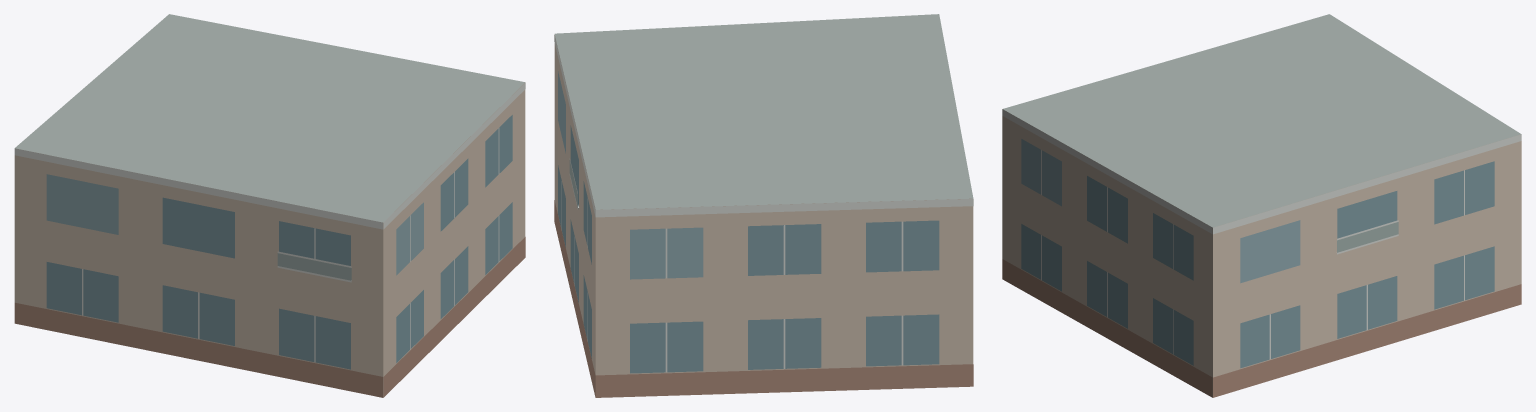
File: survey-upis-32922656.glb
3 views of the same model, side by side, from view 1: azimuth 30°, elevation 25°; view 2: azimuth 150°, elevation 25°; view 3: azimuth 270°, elevation 25° (orthographic). The views are drawn at different scales.
Visible parts, largest first — view 1: survey-upis-32922656.tmp; view 2: survey-upis-32922656.tmp; view 3: survey-upis-32922656.tmp.
Boxes of the visible parts, x1,y1,x2,y2 form: survey-upis-32922656.tmp: (14,14,525,397); survey-upis-32922656.tmp: (554,14,973,397); survey-upis-32922656.tmp: (1002,14,1521,397).
Bounding box in the file's own units: 16.43 × 6.1 × 16.87.
